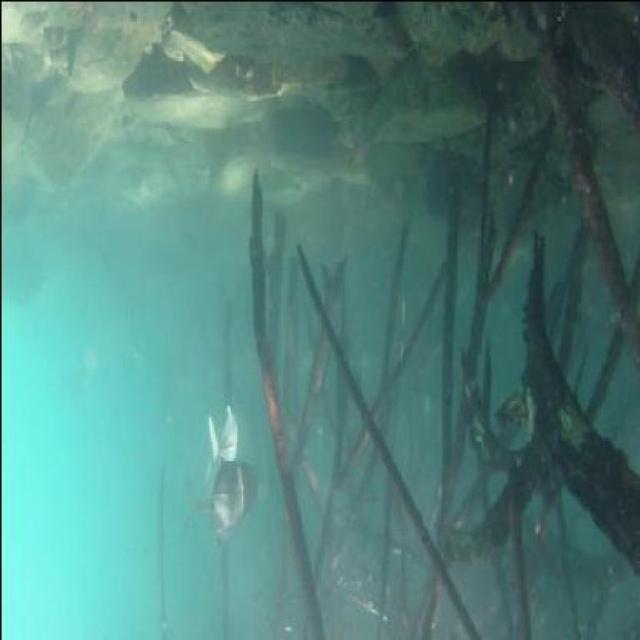Caranx_sexfasciatus_juvenile: (202, 452, 258, 537), (184, 462, 236, 546), (204, 398, 238, 469)
